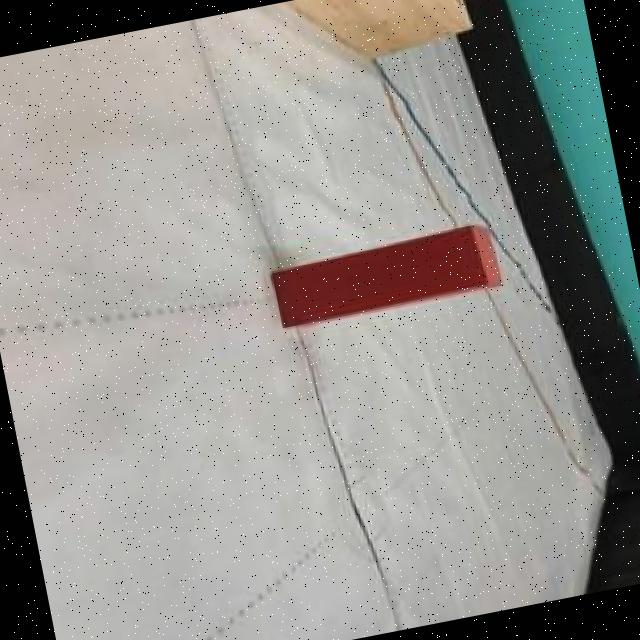redbox: (268, 219, 507, 329)
